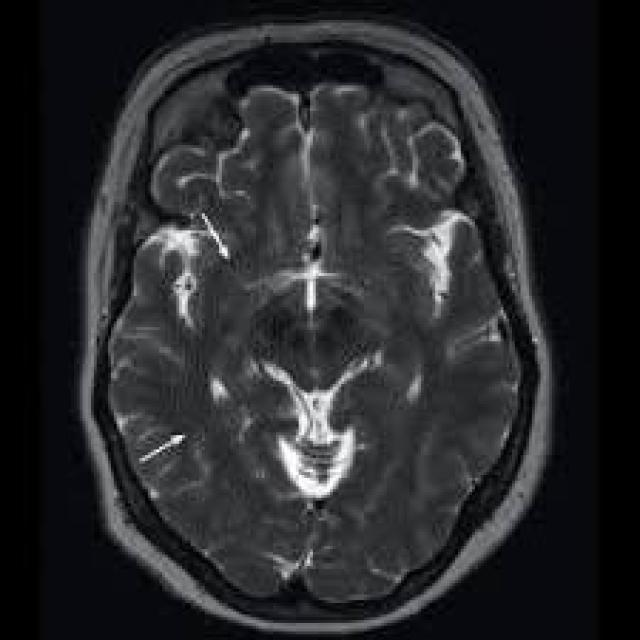notumor: (80, 17, 552, 634)
